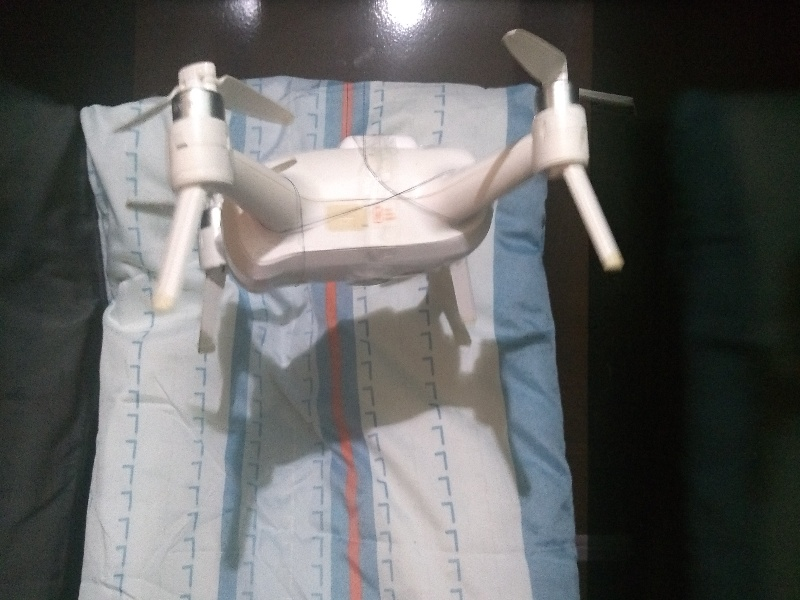drone: (131, 25, 630, 333)
